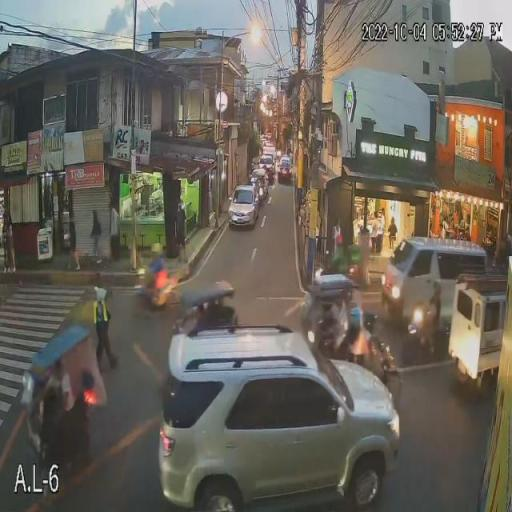helmet: (349, 306, 364, 325), (364, 312, 378, 330), (433, 278, 442, 296)
motorcycle: (404, 311, 449, 363), (374, 336, 405, 396), (134, 268, 180, 306), (151, 242, 163, 255)
rider: (347, 326, 370, 363), (426, 298, 442, 351), (147, 256, 166, 300)
